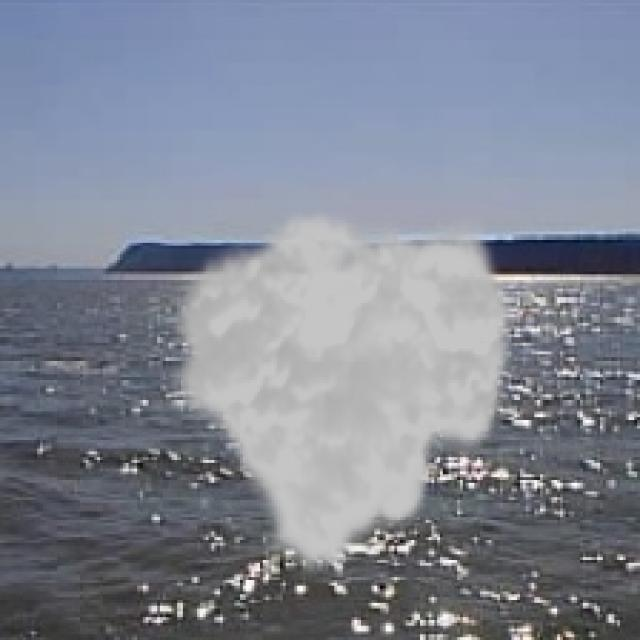Smoke: (163, 208, 520, 580)
